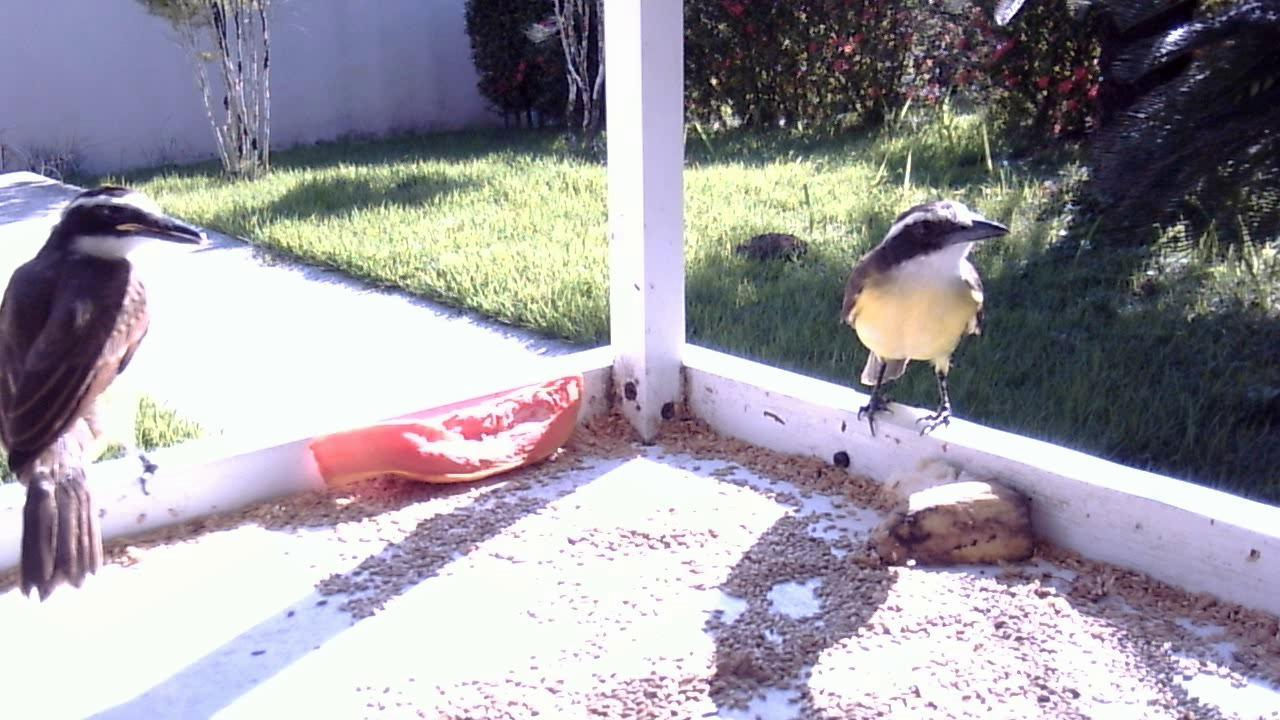bem_te_vi: (1, 155, 237, 601), (828, 194, 1017, 447)
